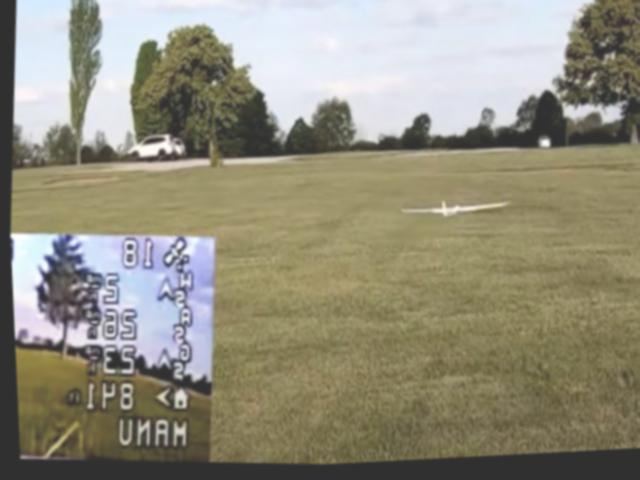iha: (396, 195, 505, 228)
